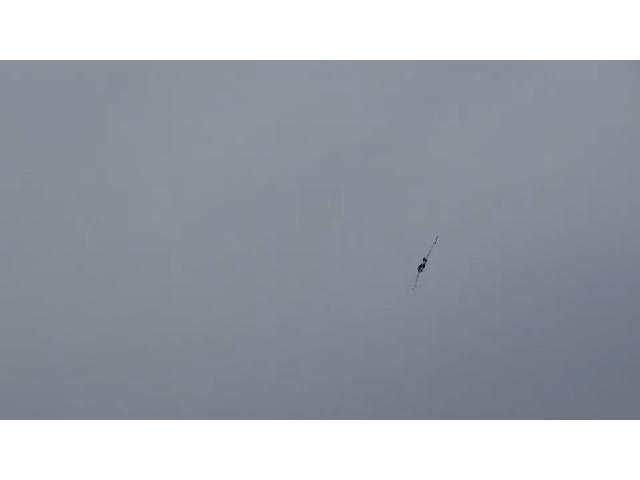Anti-Drone: (411, 238, 437, 290)
